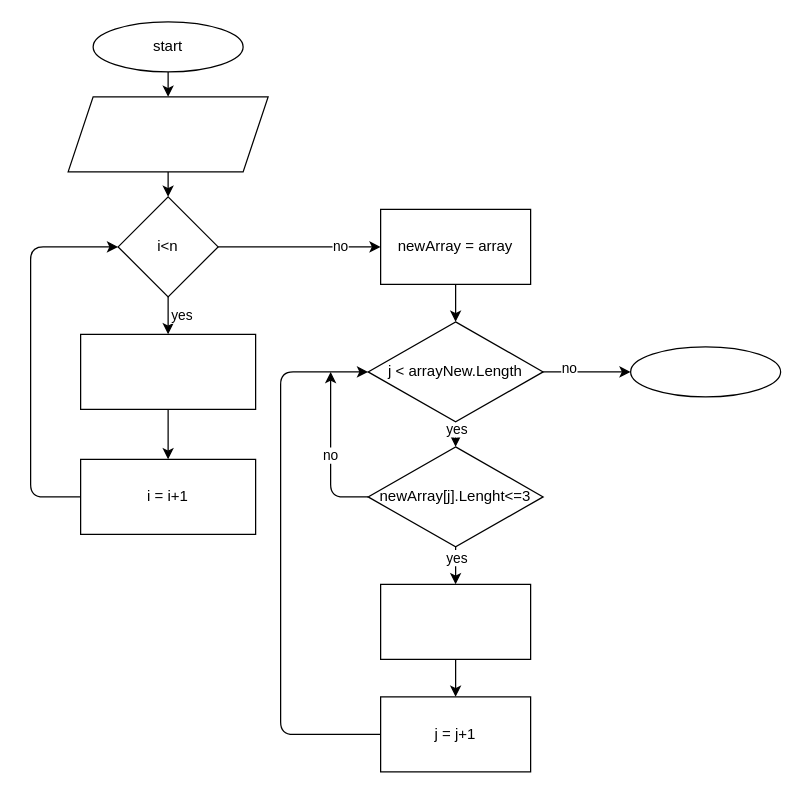
Some shapes in this 803 by 794 pixel diagram are drawn without their labels. Each missing label, with the box of its shape:
array[n newArray[] i=0;j=0;: (67, 96, 268, 172)
finish: (629, 346, 781, 397)
print array[i]: (79, 333, 256, 409)
print arrayNew[ j ]: (379, 583, 531, 659)
